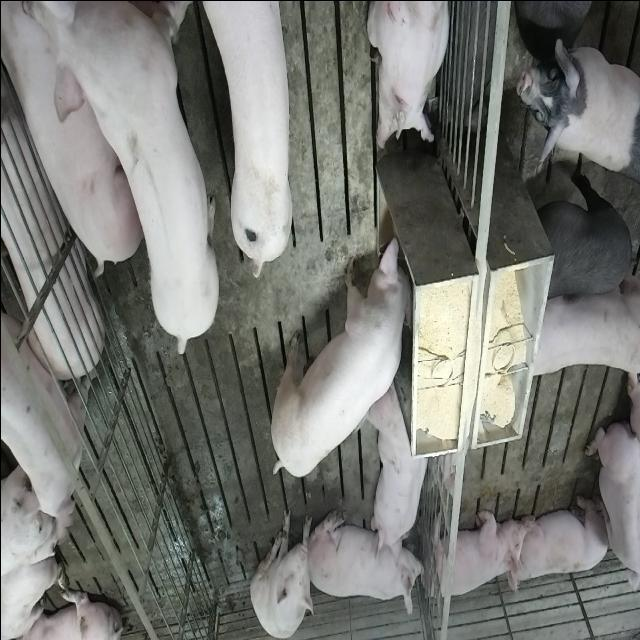Feeding: (264, 232, 410, 478)
Lateral_lying: (0, 12, 103, 376)
Sitting: (250, 502, 314, 636)
Standing: (42, 2, 214, 357), (203, 0, 295, 272), (0, 301, 87, 543), (514, 31, 637, 172), (530, 169, 636, 305), (520, 271, 638, 383), (513, 0, 607, 30)
Sternal_lying: (366, 0, 451, 155), (310, 508, 426, 614), (369, 378, 432, 562), (584, 418, 638, 602), (425, 505, 524, 605), (511, 491, 611, 588)
